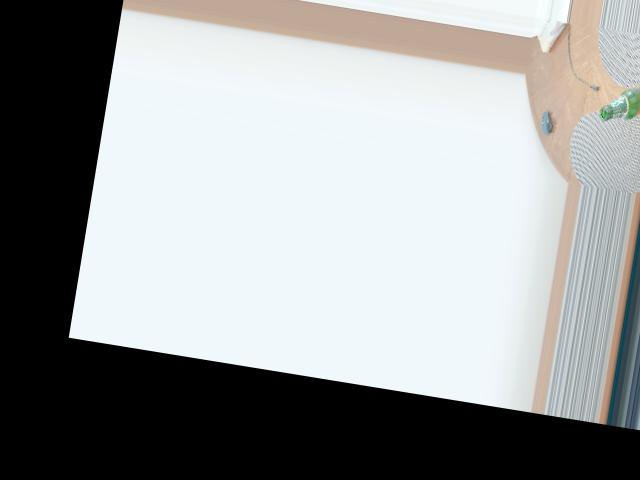beer: (599, 76, 640, 128)
